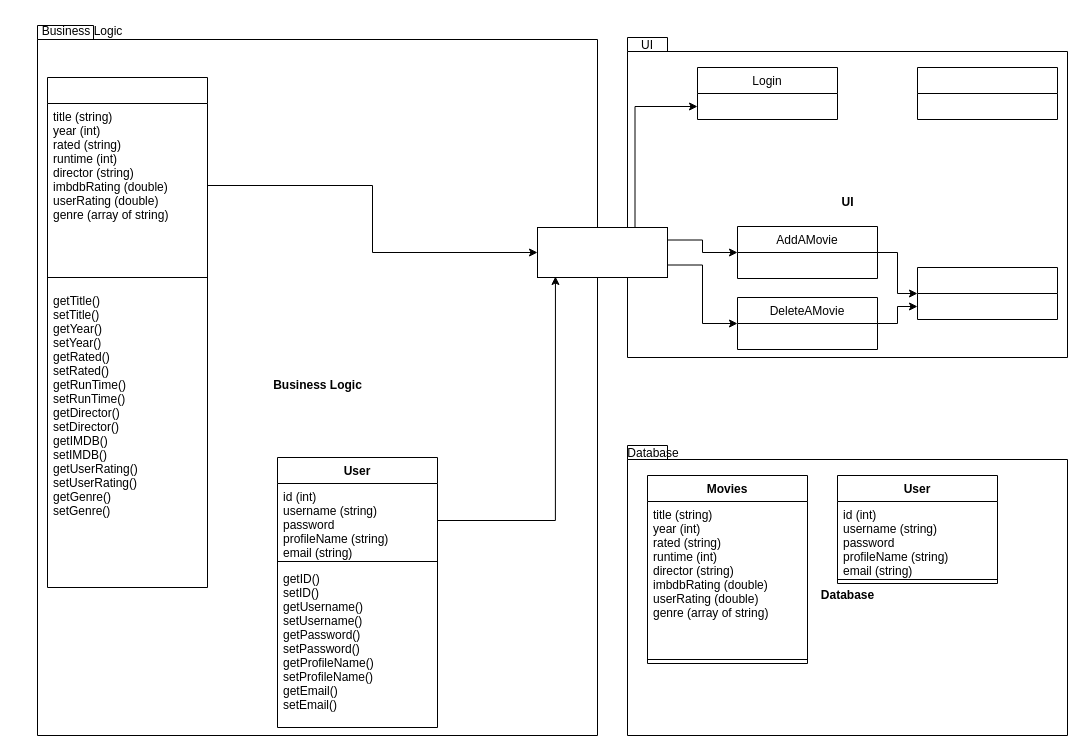
Image size: 1085x753. Some labels were removed from this diagram. Here are the shapes that lost their labels. From the top down, the box of each, then its label:
(916, 66, 1058, 120): Controller
(536, 226, 668, 278): Service Endpoint (SEI)
(916, 266, 1058, 320): MyRecipeScreen
(46, 76, 208, 588): Movie
